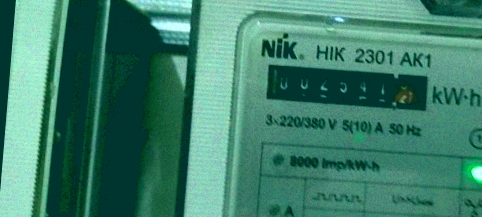0: (275, 69, 290, 91), (297, 68, 310, 90)
1: (375, 76, 388, 97)
2: (316, 71, 330, 92)
4: (356, 73, 370, 95)
5: (335, 71, 349, 94)
6: (397, 89, 409, 105)
screen: (254, 52, 440, 121)
